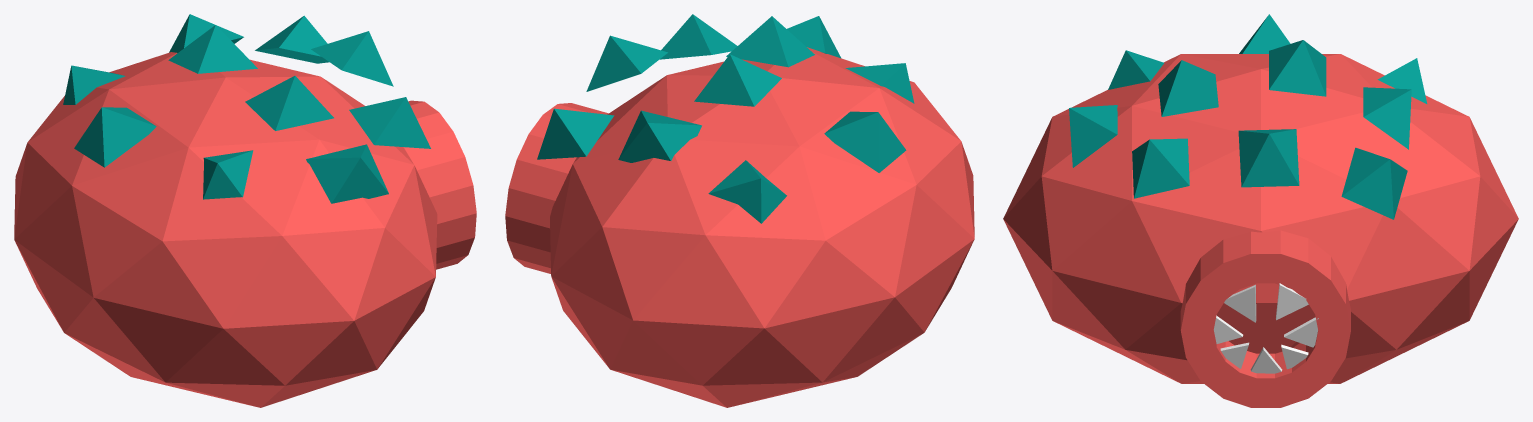
File: Monster_Spider_3_Body.FBX
The picture shows the model from 3 angles, left to right: view 1: azimuth 30°, elevation 25°; view 2: azimuth 150°, elevation 25°; view 3: azimuth 270°, elevation 25°; orthographic projection.
Visible parts, largest first — view 1: Body, Pyramid006, Pyramid004, Pyramid010, Pyramid008, Pyramid007, Pyramid003, Pyramid005, Pyramid009, Pyramid002, Pyramid001; view 2: Body, Pyramid004, Pyramid001, Pyramid007, Pyramid009, Pyramid002, Pyramid010, Pyramid003, Pyramid008, Pyramid005, Pyramid006; view 3: Body, Pyramid003, Pyramid009, Pyramid008, Pyramid007, Pyramid010, Pyramid001, Pyramid006, Pyramid005, Pyramid004, Pyramid002, Prism005 (+4 smaller).
Part boxes in pixels (box(x1,y1,x2,y2)): Body: box(14, 52, 476, 407); Pyramid006: box(306, 144, 388, 203); Pyramid004: box(74, 107, 156, 167); Pyramid010: box(245, 76, 333, 130); Pyramid008: box(349, 97, 430, 148); Pyramid007: box(168, 25, 257, 73); Pyramid003: box(311, 31, 393, 86); Pyramid005: box(203, 150, 253, 199); Pyramid009: box(255, 15, 329, 63); Pyramid002: box(63, 65, 125, 104); Pyramid001: box(169, 14, 243, 52); Body: box(505, 47, 974, 407); Pyramid004: box(824, 111, 906, 172); Pyramid001: box(618, 110, 701, 162); Pyramid007: box(694, 54, 781, 106); Pyramid009: box(537, 108, 614, 159); Pyramid002: box(708, 160, 786, 223); Pyramid010: box(726, 16, 814, 67); Pyramid003: box(586, 35, 667, 91); Pyramid008: box(660, 14, 737, 59); Pyramid005: box(845, 63, 914, 103); Pyramid006: box(787, 16, 841, 58); Body: box(1003, 54, 1518, 407); Pyramid003: box(1238, 129, 1299, 187); Pyramid009: box(1341, 147, 1407, 219); Pyramid008: box(1132, 138, 1189, 198); Pyramid007: box(1269, 40, 1326, 96); Pyramid010: box(1158, 60, 1218, 116); Pyramid001: box(1363, 87, 1411, 149); Pyramid006: box(1069, 105, 1117, 167); Pyramid005: box(1108, 50, 1163, 89); Pyramid004: box(1239, 14, 1290, 53); Pyramid002: box(1377, 58, 1427, 103); Prism005: box(1224, 284, 1256, 322).
Bounding box in the file's own units: 23.33 × 19.26 × 26.94.
